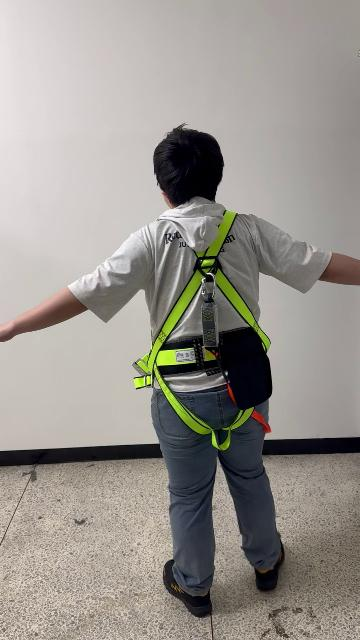helmet_not_worn: (154, 128, 226, 201)
shoe_worn: (163, 561, 211, 618), (253, 536, 284, 591)
vest_worn: (133, 213, 273, 443)
